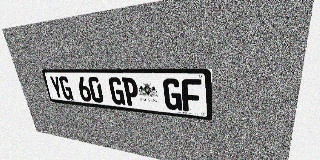0: (87, 77, 104, 103)
6: (76, 76, 92, 102)
F: (181, 79, 202, 113)
G: (163, 78, 182, 111), (108, 77, 125, 105), (58, 76, 74, 100)
P: (122, 77, 140, 107)
Y: (49, 76, 64, 99)
